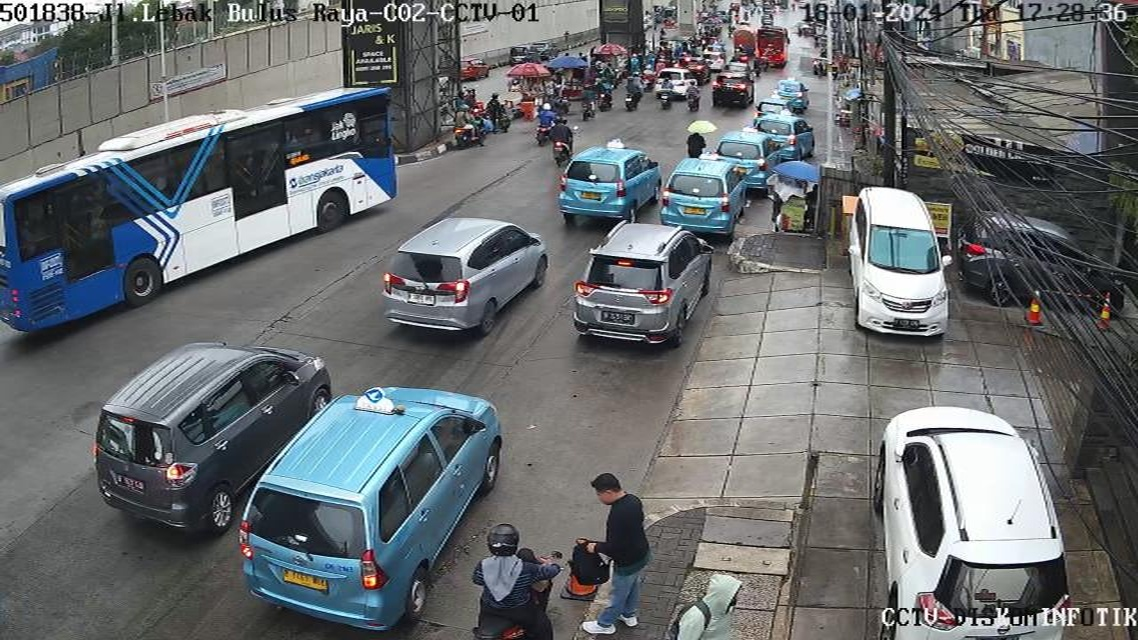Gerobak: (770, 179, 818, 232)
